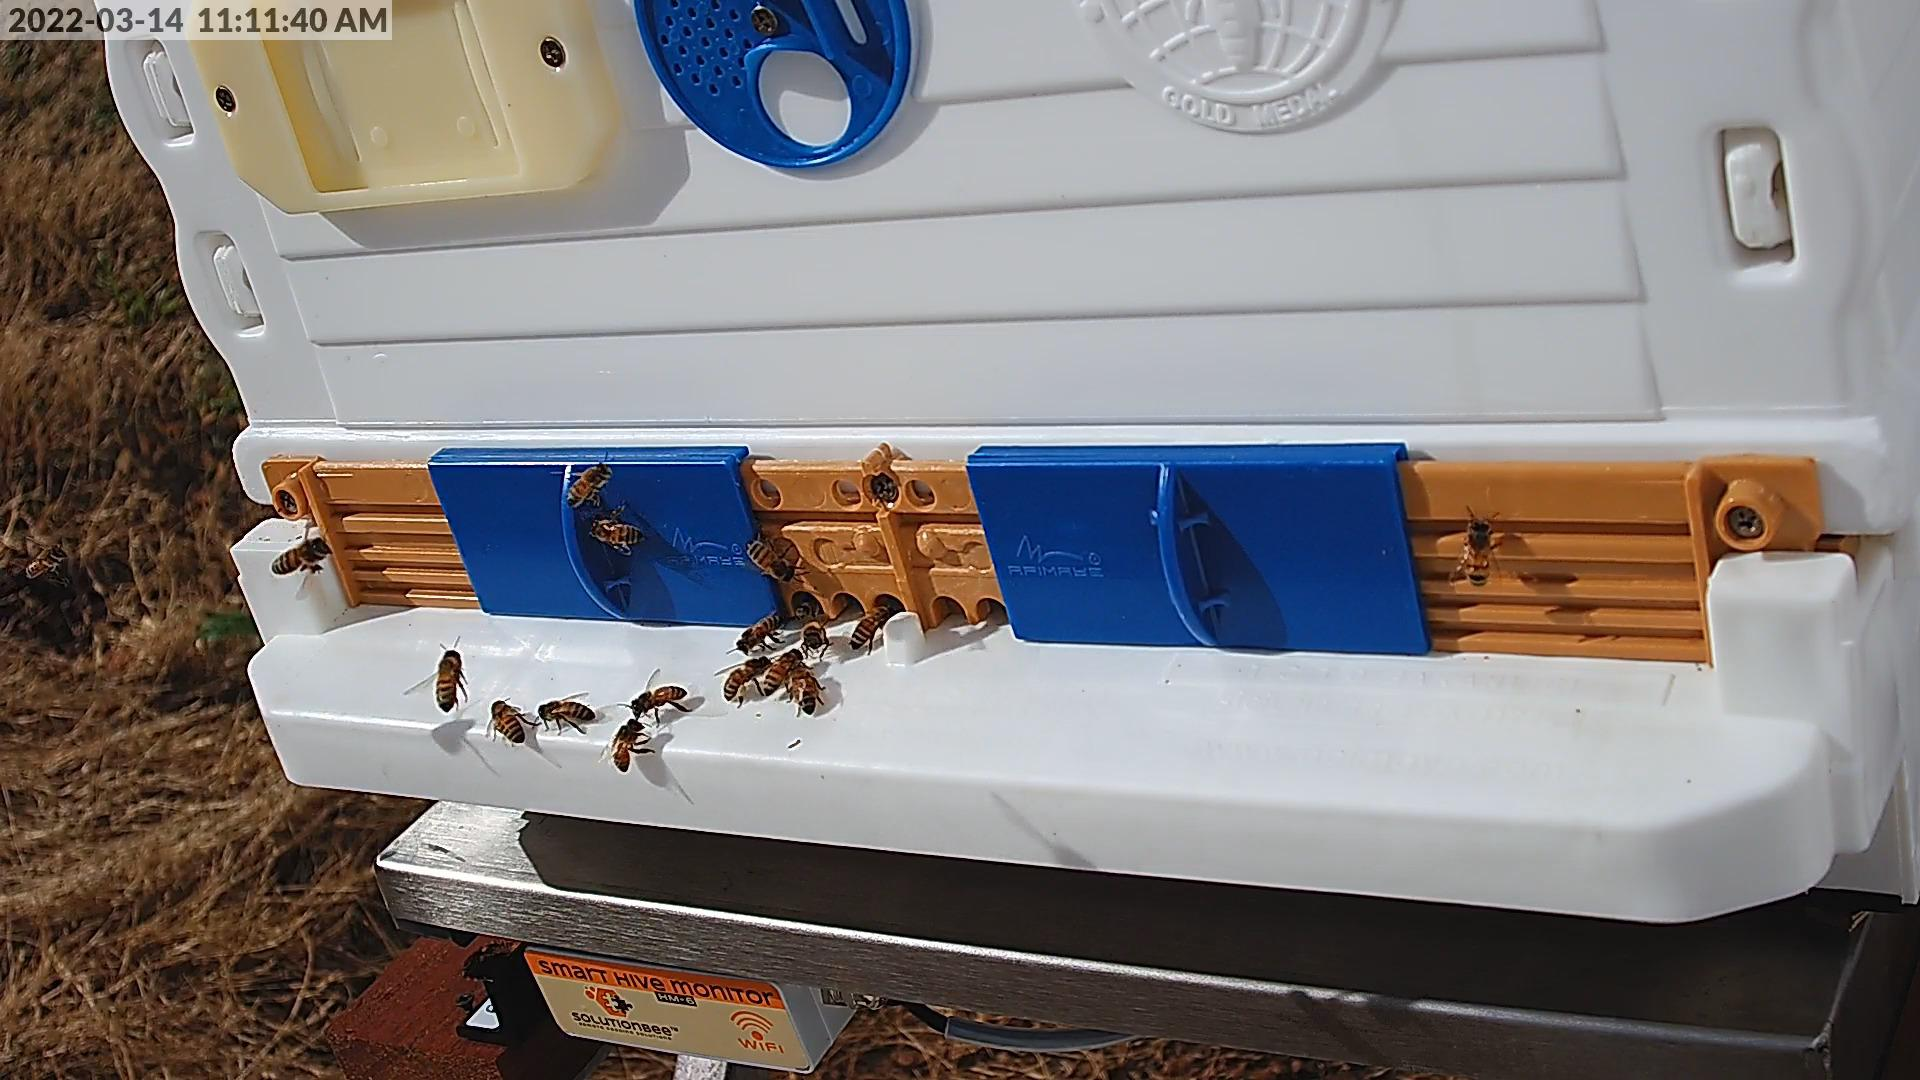bee: (273, 537, 331, 574), (749, 541, 800, 582), (1464, 518, 1494, 587), (853, 604, 898, 647), (761, 650, 802, 695), (736, 615, 786, 650), (567, 464, 608, 506), (434, 650, 463, 709), (630, 687, 688, 716), (539, 699, 595, 727), (612, 721, 642, 771), (793, 663, 820, 716), (25, 543, 65, 578), (491, 700, 522, 742), (589, 518, 642, 543), (791, 595, 823, 618), (803, 621, 827, 653)
pollenbee: (725, 654, 770, 702)
